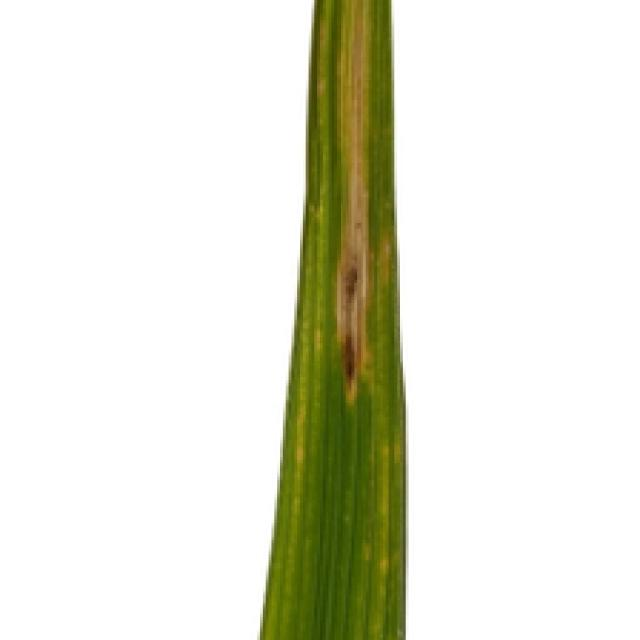Rice___Bacterial_Leaf_Blight: (256, 0, 411, 637)
